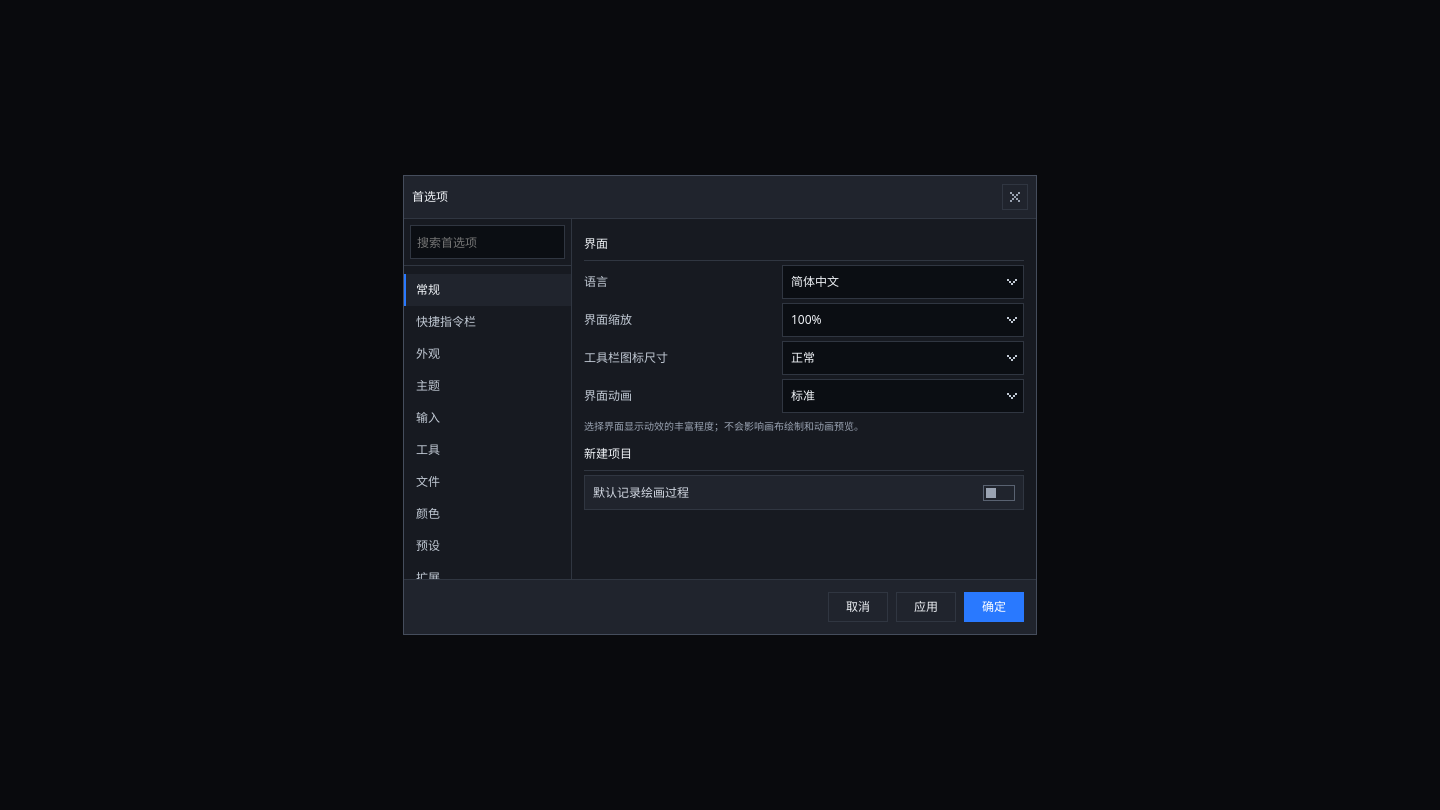
Test: PreferencesDialog › shows selection and eyedropper preferences disabled by default
Click the button "工具" at (488, 450), box [404,434,571,466]
(page scrolled)
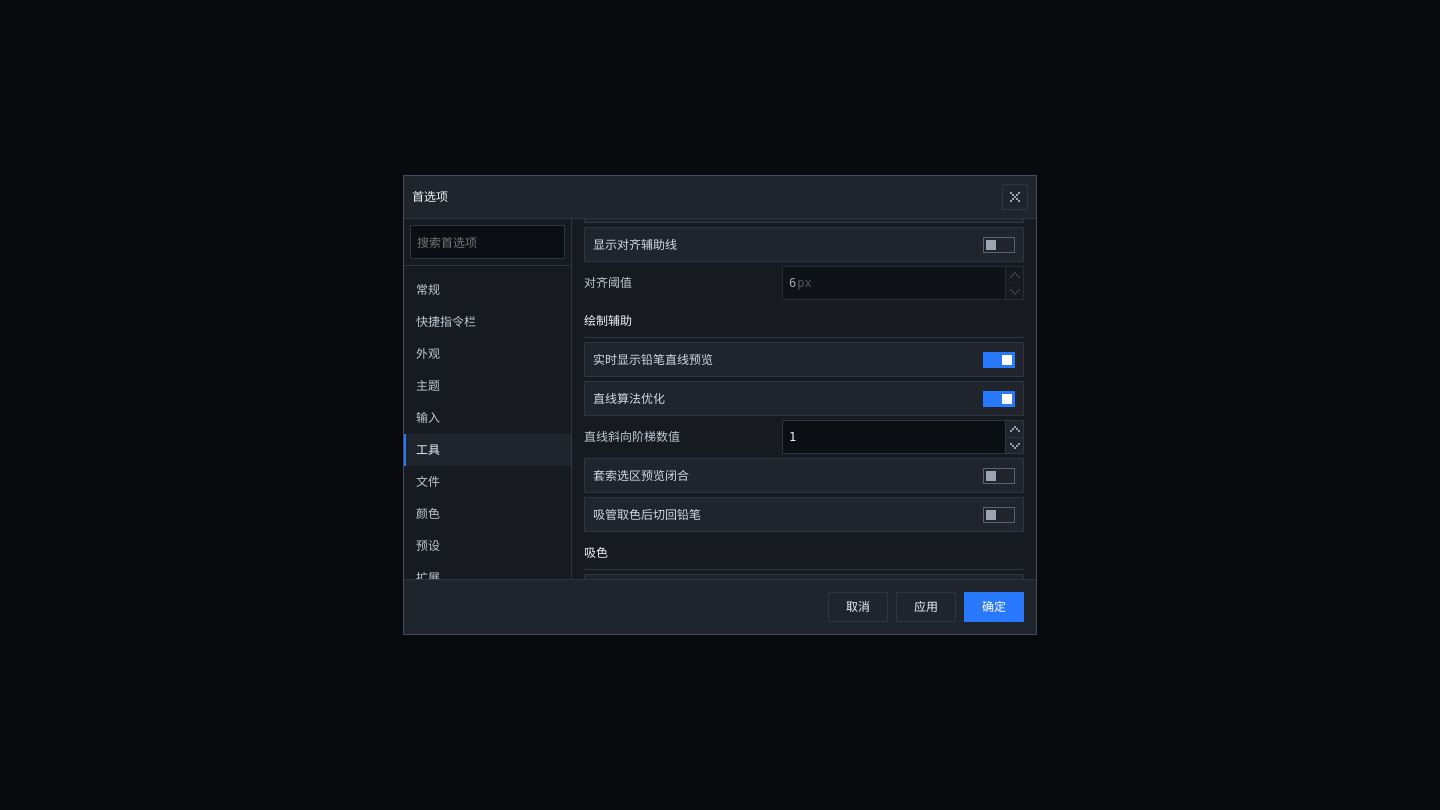
expect the checkbox labelled "套索选区预览闭合" is not checked: met, box [584,458,1024,493]
expect the checkbox labelled "直线算法优化" is checked: met, box [584,381,1024,416]
Hover over the text "直线算法优化" at (629, 398), box [593,390,665,408]
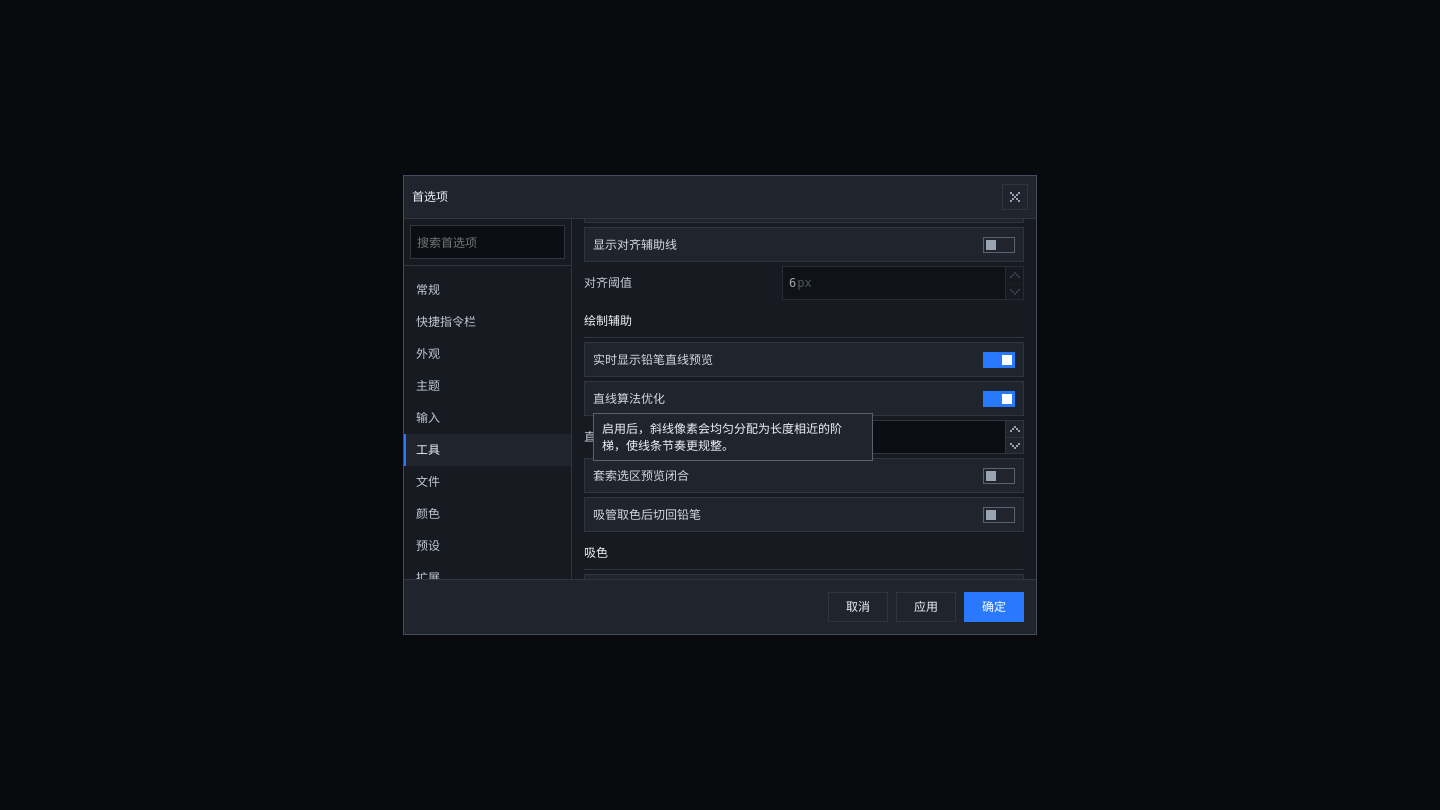
expect the tooltip shows "斜线像素会均匀分配为长度相近的阶梯": met, box [602,420,842,454]
